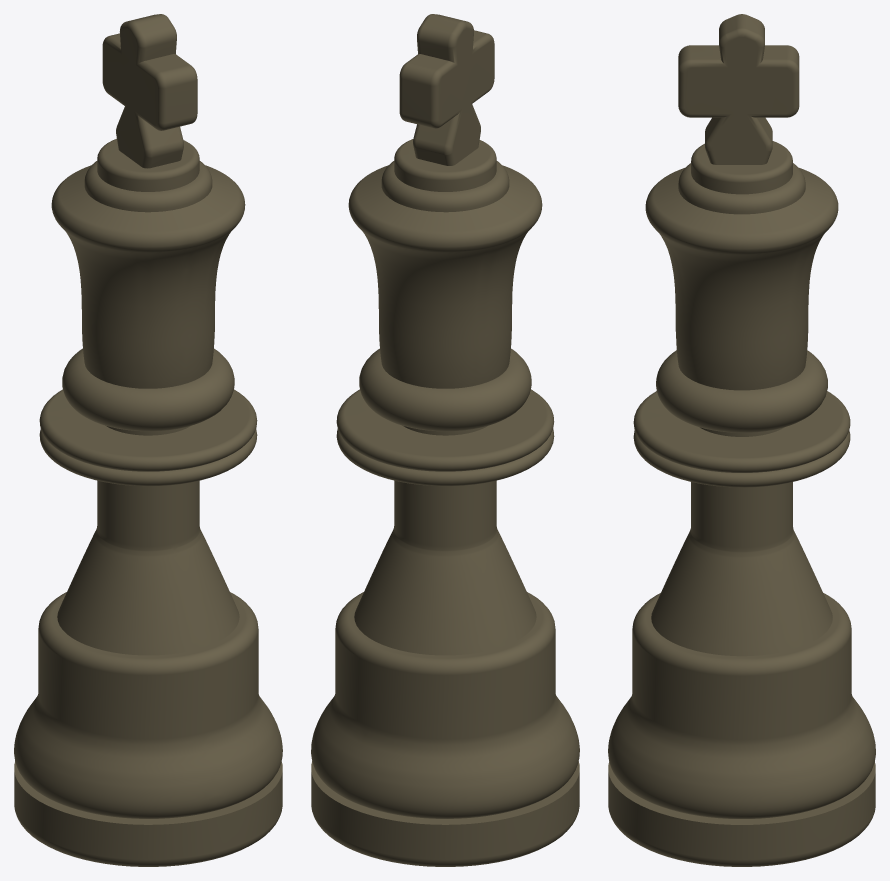
Rendered from blackking.glb.
3 renders of one model, left to right at view 1: azimuth 30°, elevation 25°; view 2: azimuth 150°, elevation 25°; view 3: azimuth 270°, elevation 25°, orthographic.
Parts seen in each view (by area): view 1: Object_2; view 2: Object_2; view 3: Object_2.
Boxes of the visible parts, left/top/right/bottom form: Object_2: left=14, top=14, right=282, bottom=866; Object_2: left=311, top=14, right=579, bottom=866; Object_2: left=608, top=14, right=875, bottom=866.
Bounding box in the file's own units: 21 × 68.63 × 21.
